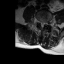CCS_normal: (41, 20, 43, 30)
LFS_normal: (45, 19, 47, 26)
LLS_stenosis: (43, 19, 45, 27)
RFS_stenosis: (37, 17, 39, 25)
RLS_stenosis: (39, 19, 41, 27)
